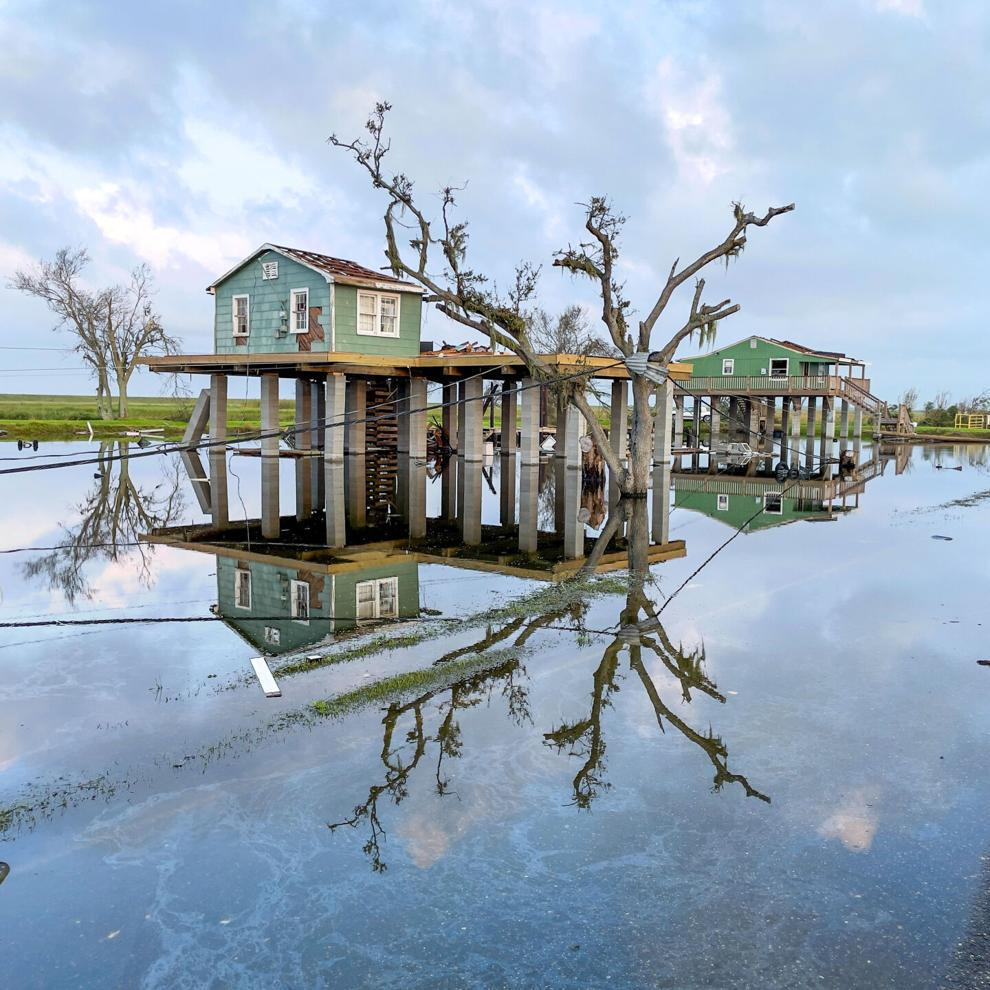minor: (204, 237, 674, 552)
